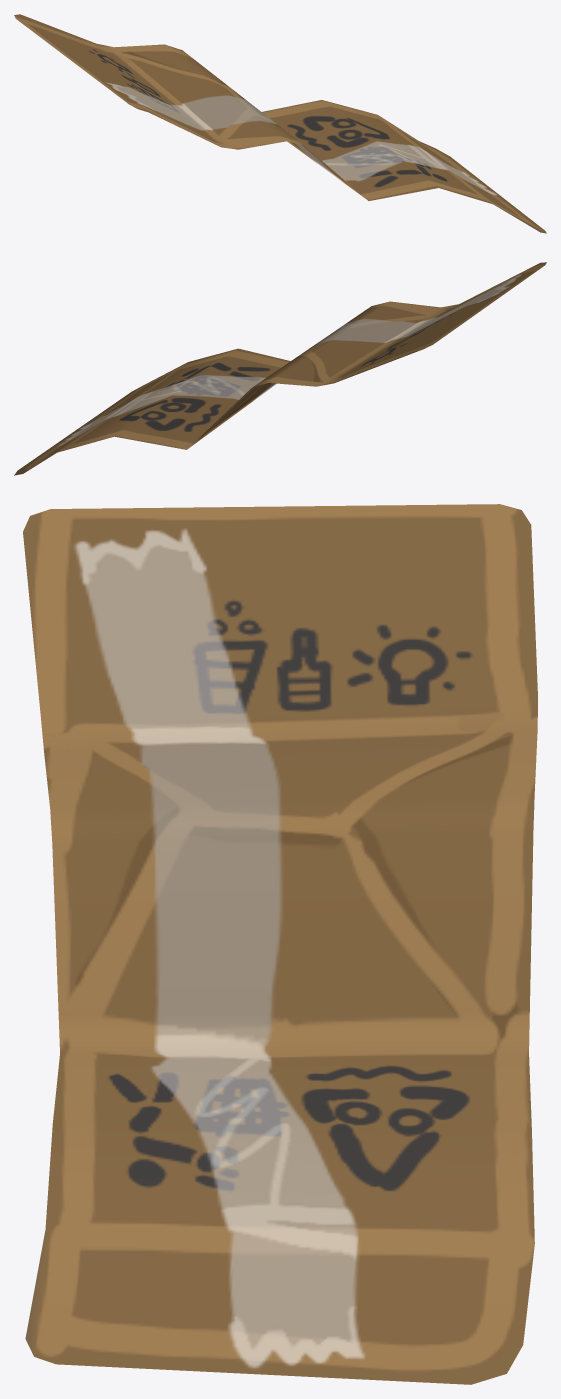
The model's file is cardboard_light_tape.gltf.
3 views of the same model, one above another, from view 1: azimuth 30°, elevation 25°; view 2: azimuth 150°, elevation 25°; view 3: azimuth 270°, elevation 25° (orthographic). The views are drawn at different scales.
Visible parts, largest first — view 1: cardboard_outside_tape_dark.002; view 2: cardboard_outside_tape_dark.002; view 3: cardboard_outside_tape_dark.002.
Part boxes in pixels (x1,y1,x2,y2): cardboard_outside_tape_dark.002: (14,14,546,233); cardboard_outside_tape_dark.002: (14,262,546,475); cardboard_outside_tape_dark.002: (23,504,537,1384).
Size of the model in its own units: 1.49 by 0.7891 by 0.7868.
Materials: 1 (1 with a texture image).
